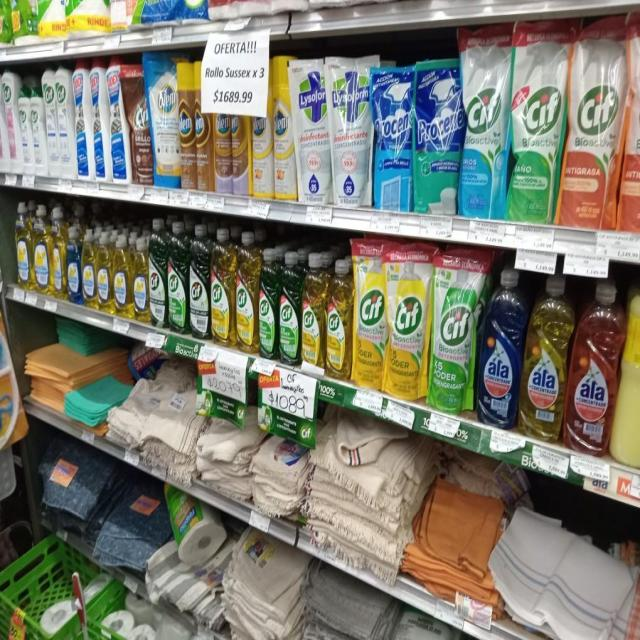ala_conc_amarillo: (522, 274, 566, 442)
ala_conc_azul: (478, 266, 521, 429)
ala_conc_rojo: (567, 279, 616, 456)
ala_crem_amarillo: (618, 274, 640, 469)
cif_conc_bot_amarilla: (326, 257, 352, 380), (210, 226, 234, 347), (302, 251, 326, 370), (236, 230, 258, 353)
cif_conc_botella_verde: (279, 249, 301, 366), (189, 222, 210, 341), (168, 220, 188, 334), (259, 247, 278, 361), (149, 217, 167, 329)
cif_conc_sachet_amarillo: (388, 240, 428, 402), (353, 237, 387, 389)
cif_conc_sachet_verde: (431, 245, 477, 414)
magistral_con_amarillo: (15, 200, 33, 291), (34, 203, 51, 295), (113, 232, 131, 318), (132, 235, 148, 324), (51, 205, 66, 299), (96, 230, 112, 313), (82, 228, 96, 309)
magistral_con_azul: (66, 226, 81, 304)
